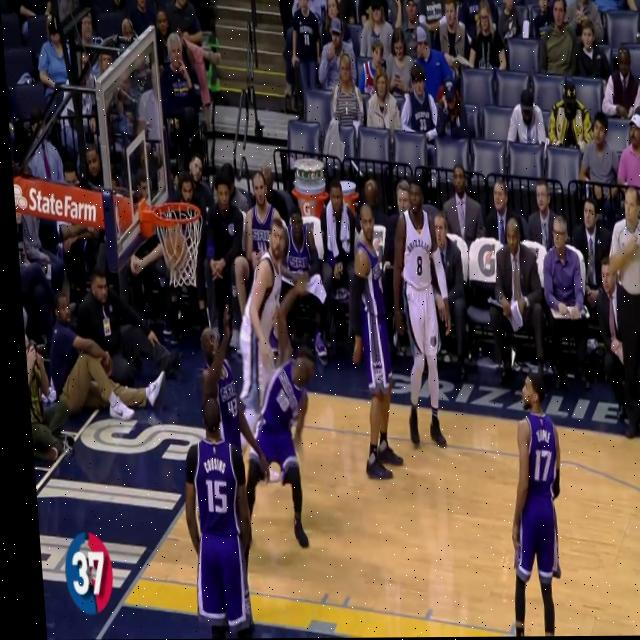basketball: (161, 231, 190, 274)
hoop: (152, 200, 209, 292), (152, 200, 209, 291)
